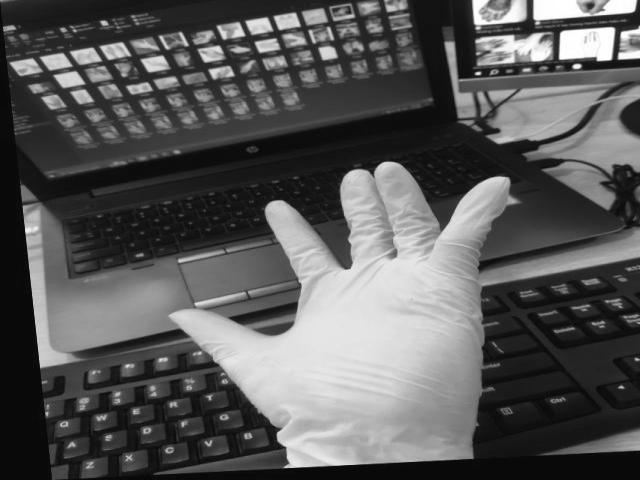gloved: (176, 164, 509, 469)
